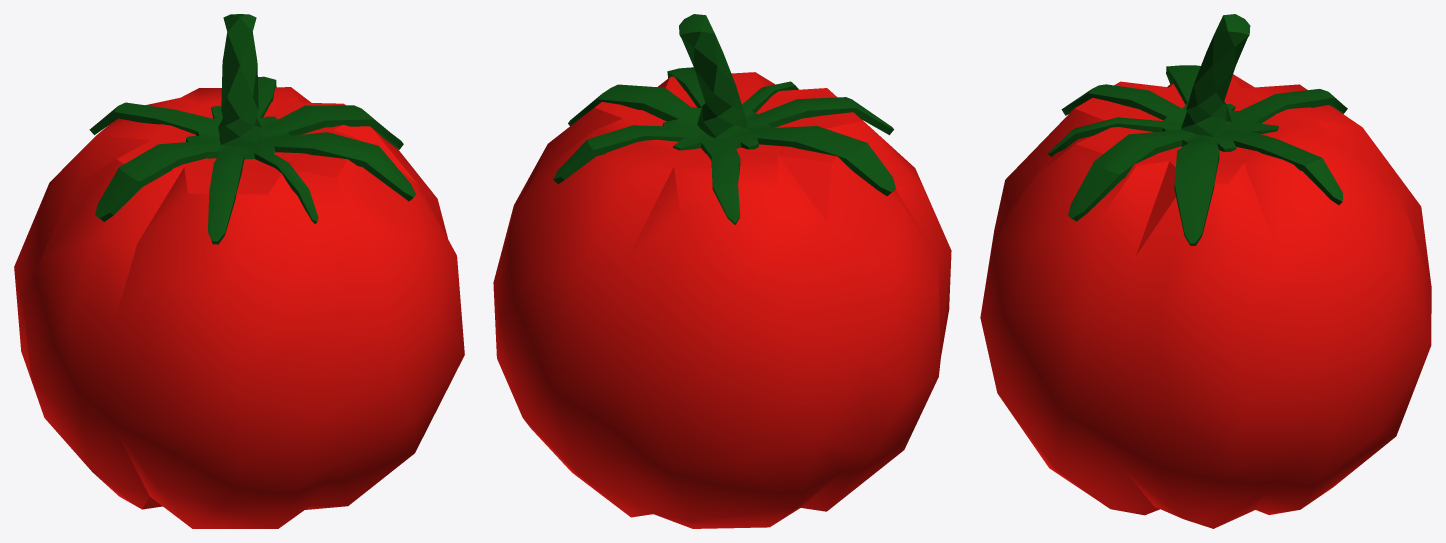
Rendered from tomato.fbx.
3 renders of one model, left to right at view 1: azimuth 30°, elevation 25°; view 2: azimuth 150°, elevation 25°; view 3: azimuth 270°, elevation 25°, orthographic. The views are drawn at different scales.
Parts seen in each view (by area): view 1: Sphere, Sphere.002, Cube; view 2: Sphere, Sphere.002, Cube; view 3: Sphere, Sphere.002, Cube.
Boxes of the visible parts, left/top/right/bottom form: Sphere: left=14, top=87, right=464, bottom=528; Sphere.002: left=89, top=76, right=415, bottom=244; Cube: left=218, top=14, right=261, bottom=147; Sphere: left=493, top=72, right=951, bottom=528; Sphere.002: left=553, top=67, right=895, bottom=224; Cube: left=679, top=14, right=748, bottom=137; Sphere: left=980, top=74, right=1431, bottom=528; Sphere.002: left=1047, top=65, right=1347, bottom=245; Cube: left=1181, top=14, right=1250, bottom=136.
Size of the model in its own units: 197 by 223 by 194.
